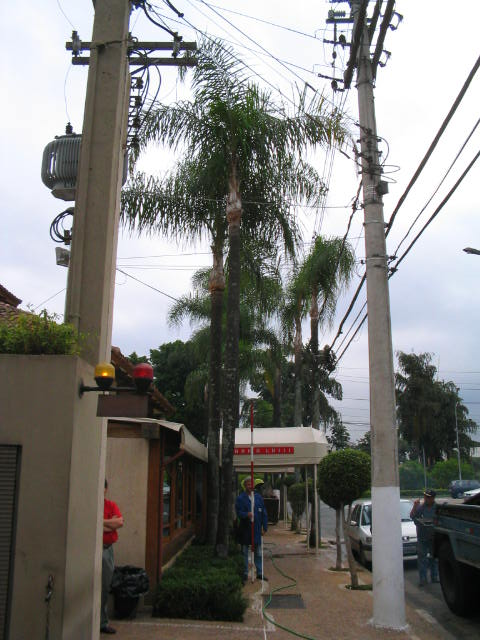crown: (121, 31, 336, 266)
stem: (211, 217, 245, 564)
stick: (239, 403, 260, 583)
tree: (118, 33, 343, 567)
